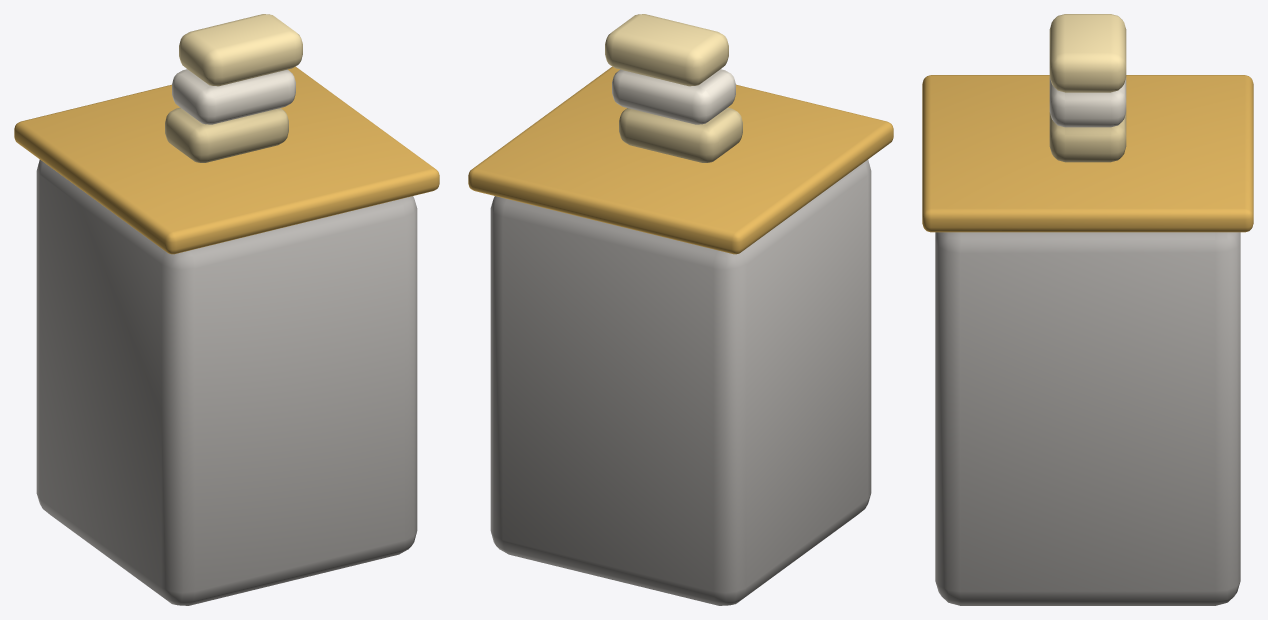
Rendered from gift-bruno.glb.
The picture shows the model from 3 angles, left to right: view 1: azimuth 30°, elevation 25°; view 2: azimuth 150°, elevation 25°; view 3: azimuth 270°, elevation 25°; orthographic projection. The views are drawn at different scales.
Visible parts, largest first — view 1: gift-bruno; view 2: gift-bruno; view 3: gift-bruno.
Part boxes in pixels (left/top/right/bottom): gift-bruno: left=14, top=14, right=439, bottom=605; gift-bruno: left=468, top=14, right=893, bottom=605; gift-bruno: left=922, top=14, right=1253, bottom=605.
Size of the model in its own units: 0.39 by 0.68 by 0.39.
